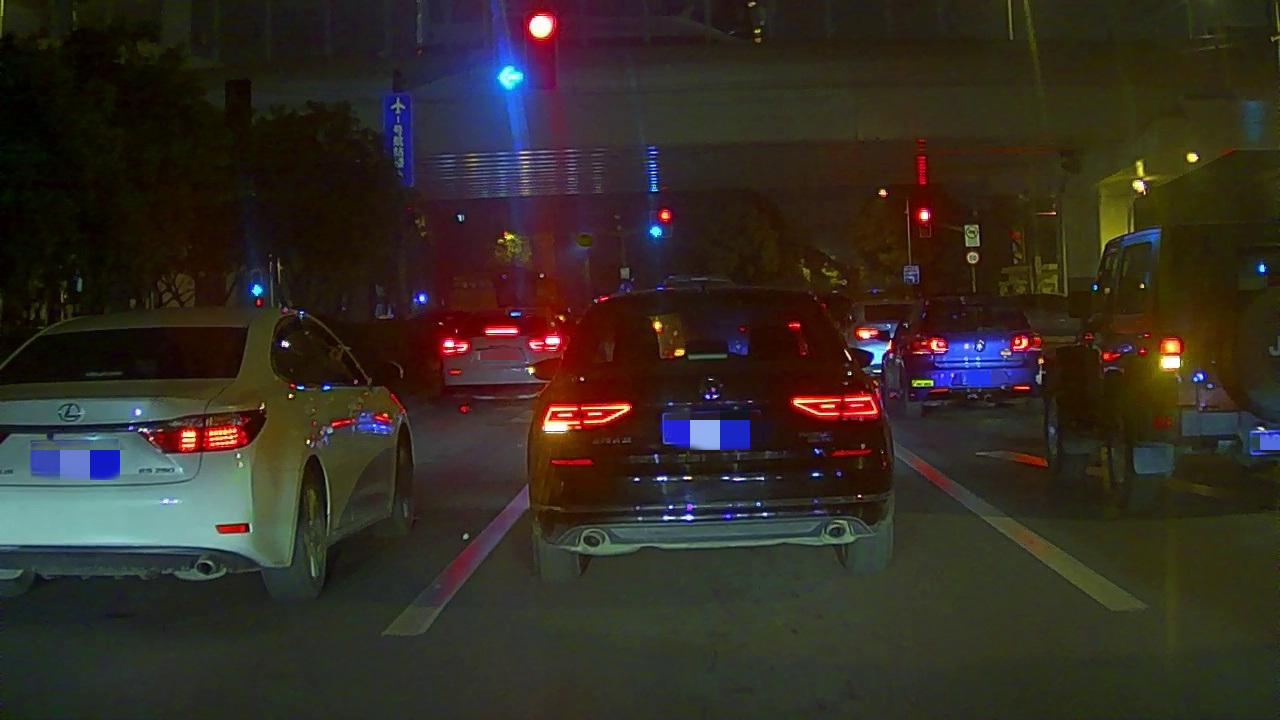traffic_light: (524, 14, 557, 86), (500, 65, 524, 90), (918, 209, 932, 223), (648, 228, 662, 238), (660, 208, 671, 220)
